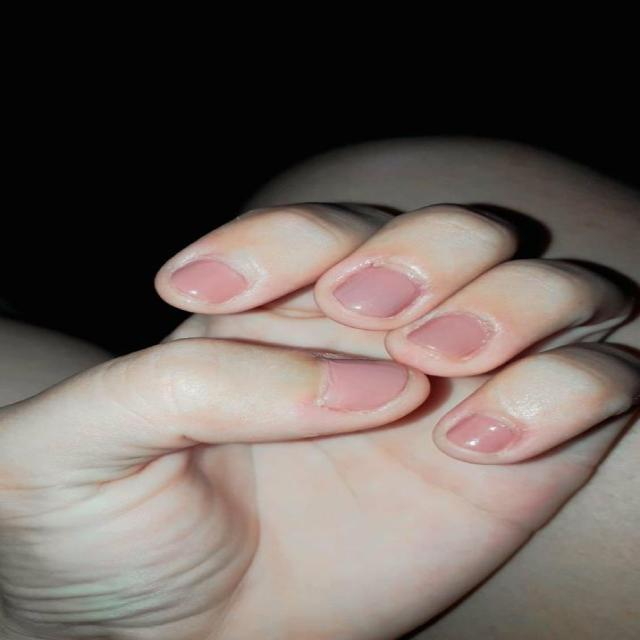Fingernail: (323, 361, 406, 411), (336, 267, 418, 317), (410, 313, 488, 360), (171, 258, 244, 304), (447, 414, 515, 452)
